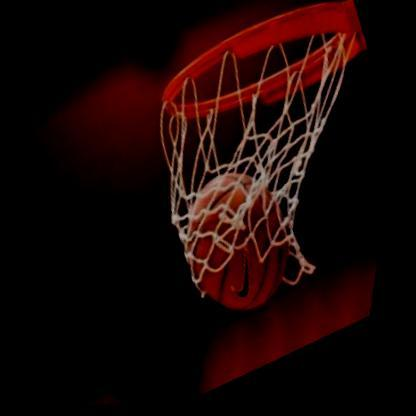basketball: (153, 149, 336, 342)
rim: (102, 0, 416, 331)
